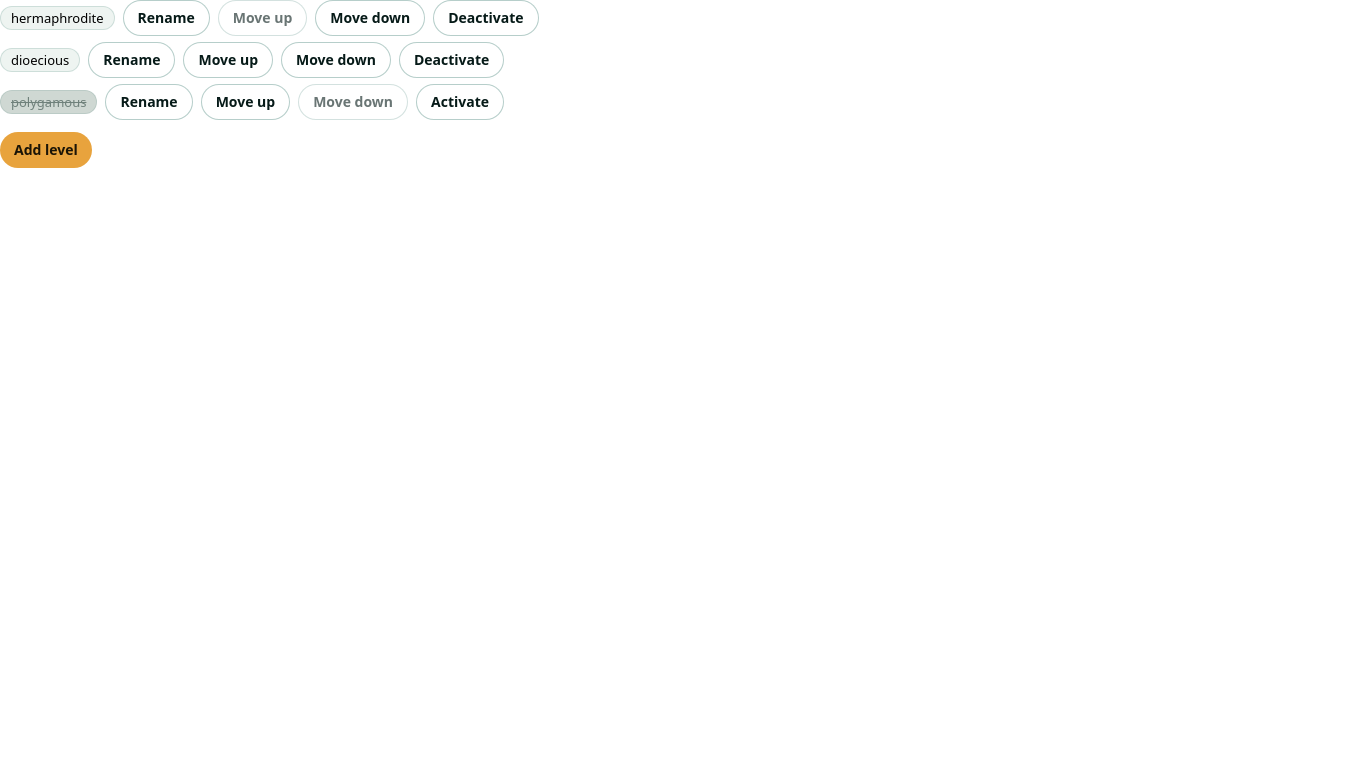
it: RFC-62 R6 LevelsEditor › an unchanged rename closes without a request
Click the button with aria-label "Rename dioecious".
click(132, 60)  # box [88,42,176,78]
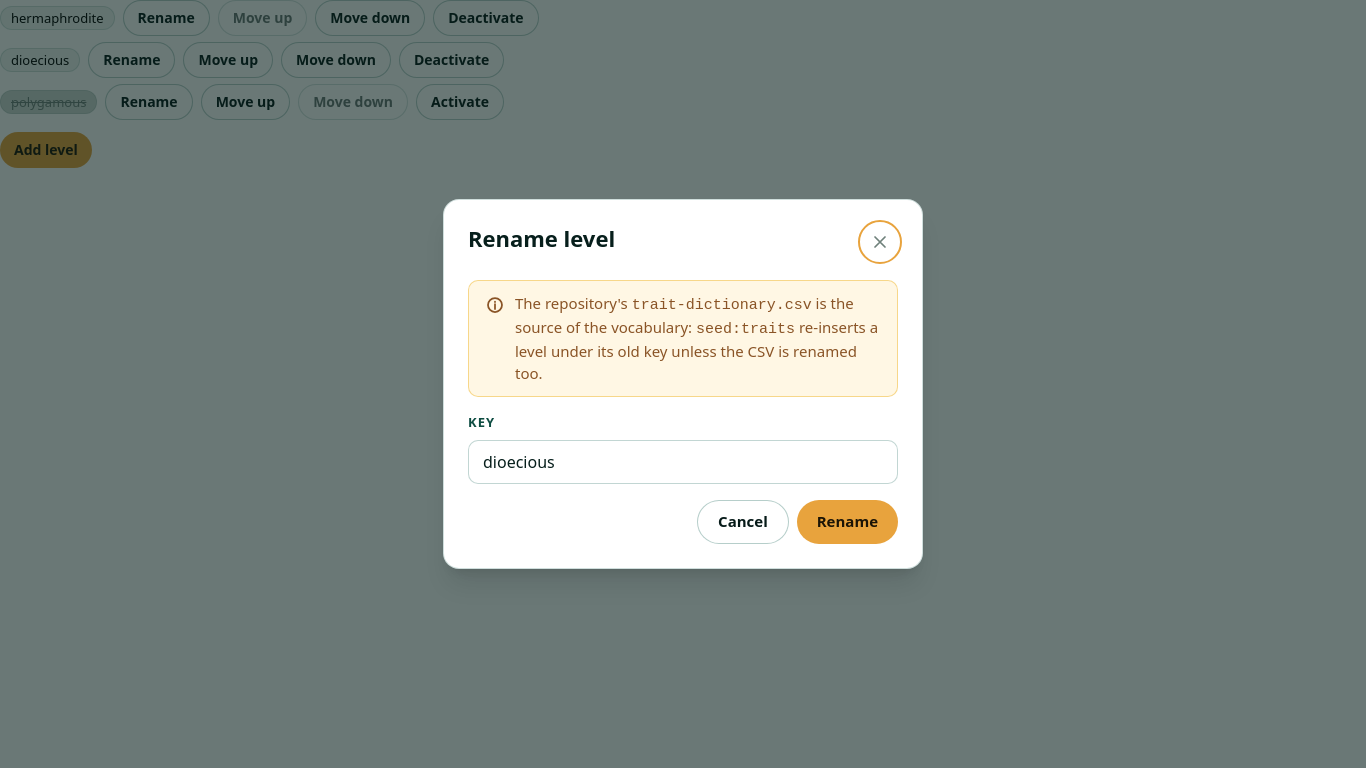
Click the button "Rename".
click(847, 522)  # box [797,500,898,544]
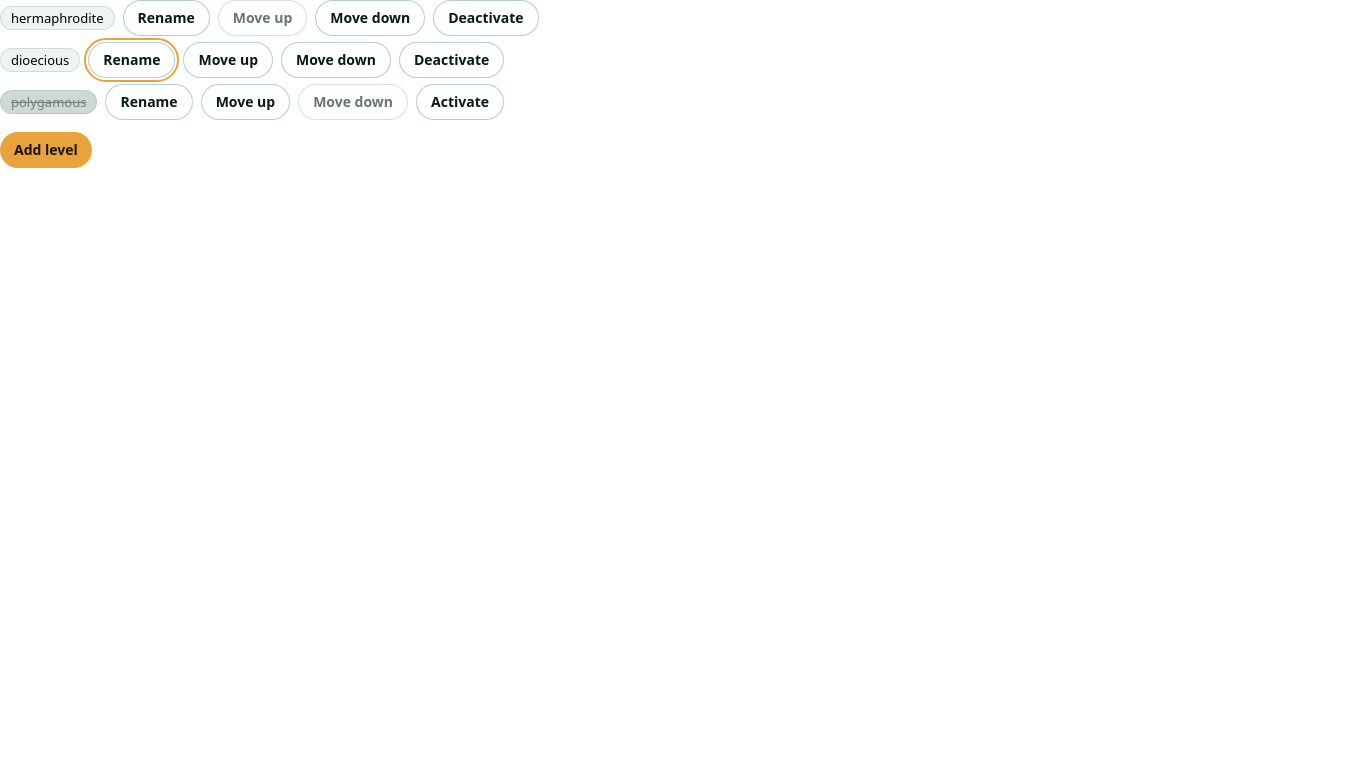
Check: the dialog is gone
